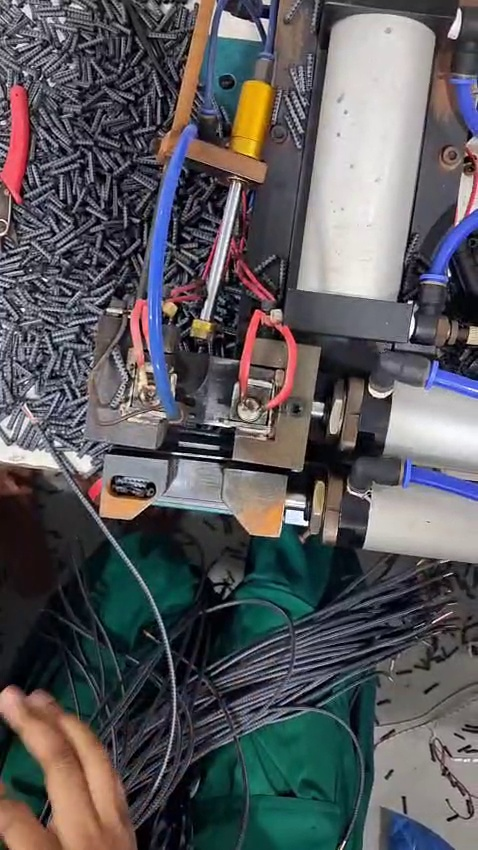machine: (85, 296, 349, 498)
peeled_wire: (9, 383, 66, 465)
